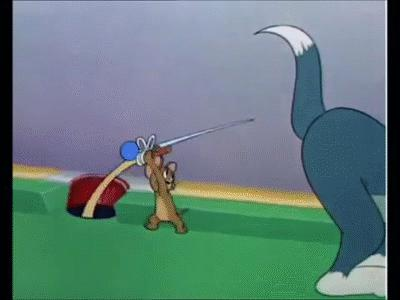jerry: (143, 149, 190, 235)
